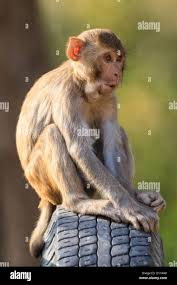monkey: (10, 6, 172, 244)
